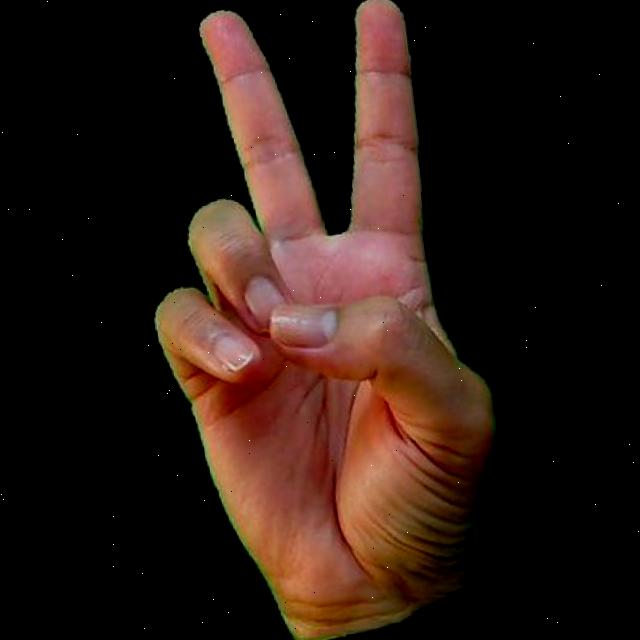v: (111, 0, 522, 640)
